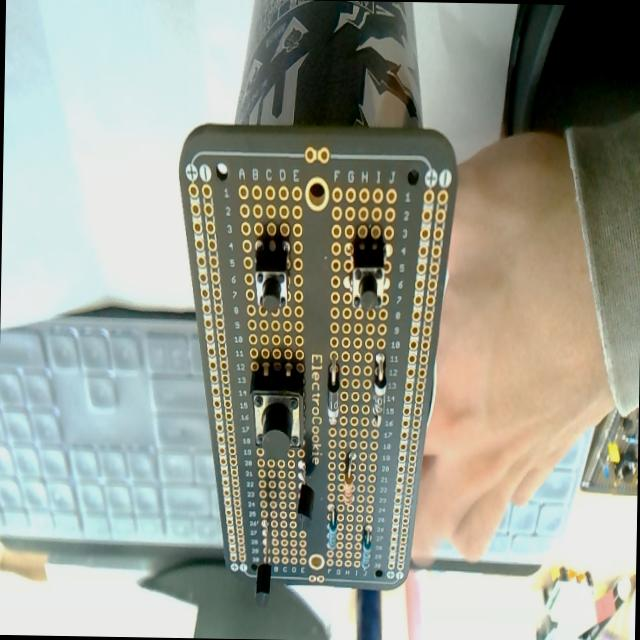diode: (372, 353, 387, 428), (326, 360, 340, 425), (326, 508, 338, 549)
resistor: (342, 452, 356, 504), (361, 530, 372, 570)
switch: (249, 362, 305, 457), (350, 236, 386, 315), (254, 236, 290, 314)
transistor: (255, 515, 273, 605), (296, 457, 316, 531)
